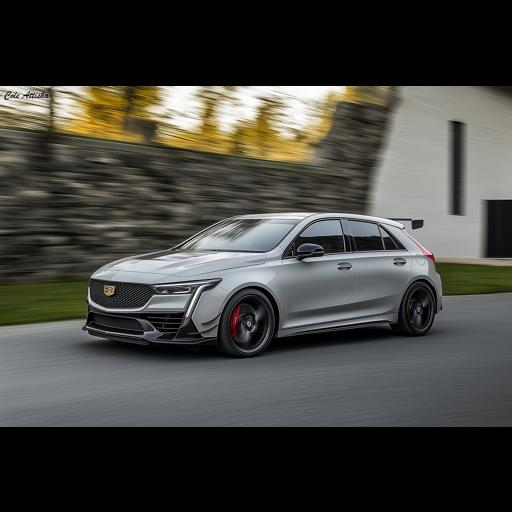car: (412, 220, 422, 227)
hatchback: (83, 213, 441, 355)
